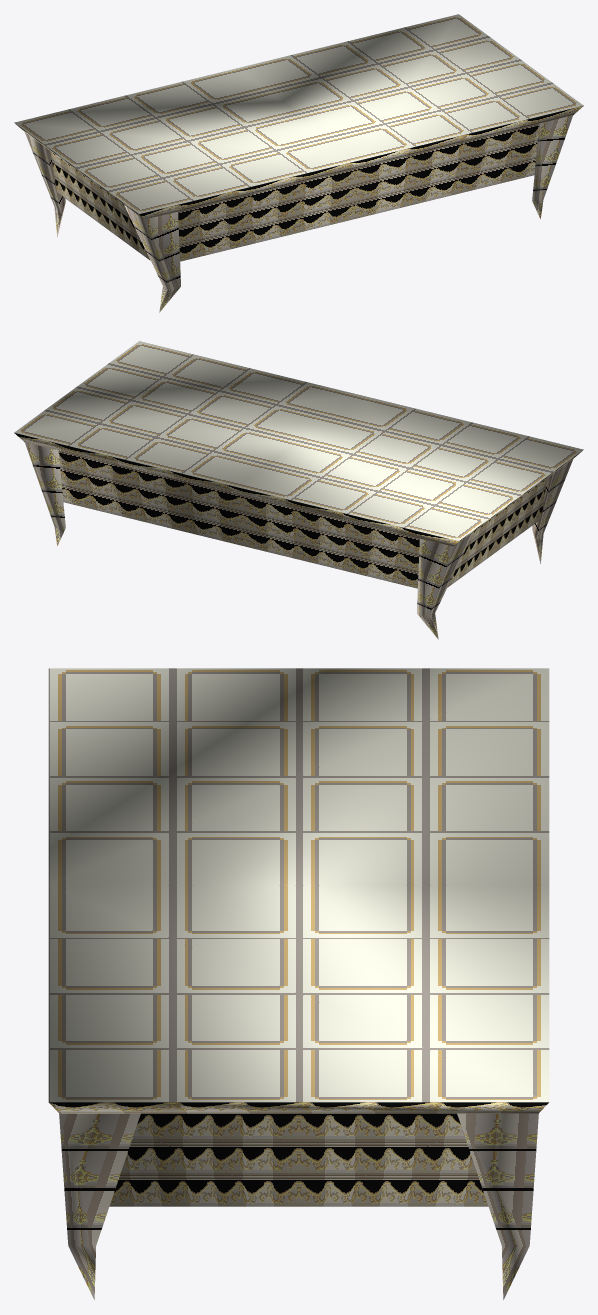
Rendered from 3088IMRL06_06.gltf.
The picture shows the model from 3 angles, top to bottom: view 1: azimuth 30°, elevation 25°; view 2: azimuth 150°, elevation 25°; view 3: azimuth 270°, elevation 25°; orthographic projection. The views are drawn at different scales.
Visible parts, largest first — view 1: 3088IMRL06_06; view 2: 3088IMRL06_06; view 3: 3088IMRL06_06.
Part boxes in pixels (bbox=[...]): 3088IMRL06_06: bbox=[14, 14, 583, 312]; 3088IMRL06_06: bbox=[14, 341, 583, 639]; 3088IMRL06_06: bbox=[48, 668, 549, 1299].
Size of the model in its own units: 1.95 by 0.4805 by 0.9502.
3 materials, 3 textured.
